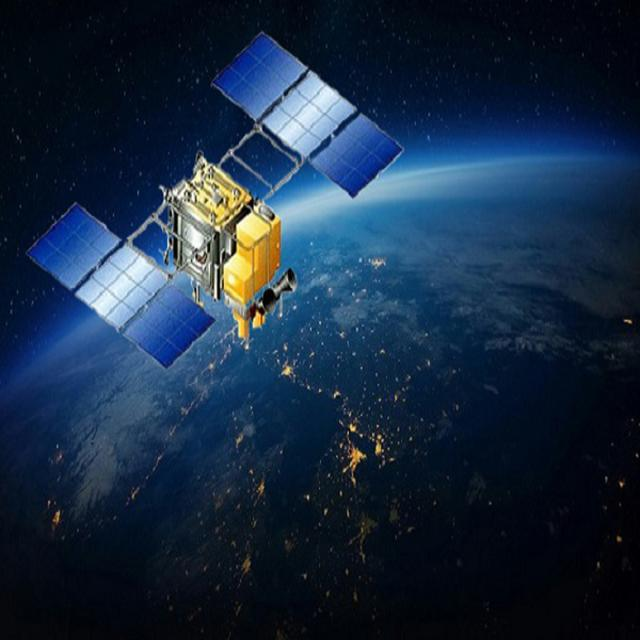medium_debris: (13, 6, 429, 428)
